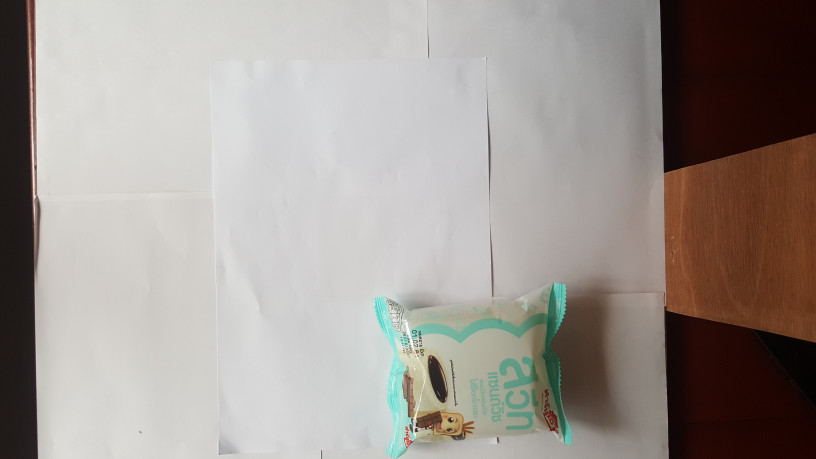farmhouse-sweetsandwich-chocolate: (363, 278, 580, 457)
